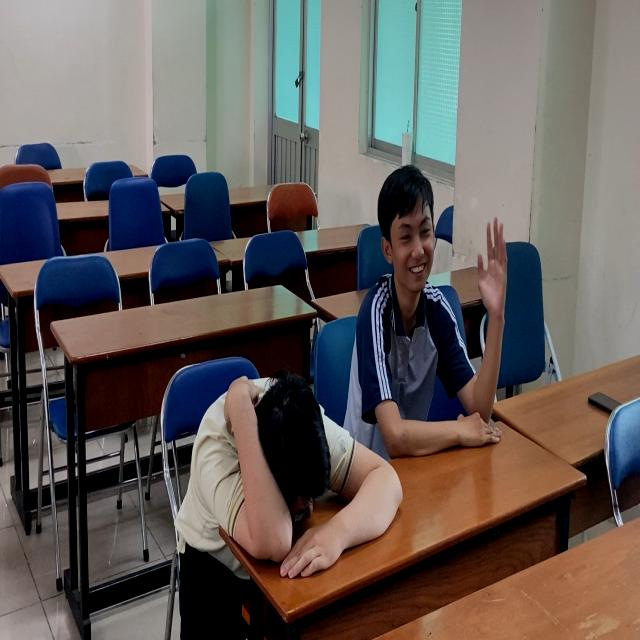raise_hand: (364, 161, 515, 443)
sleep: (166, 367, 399, 607)
